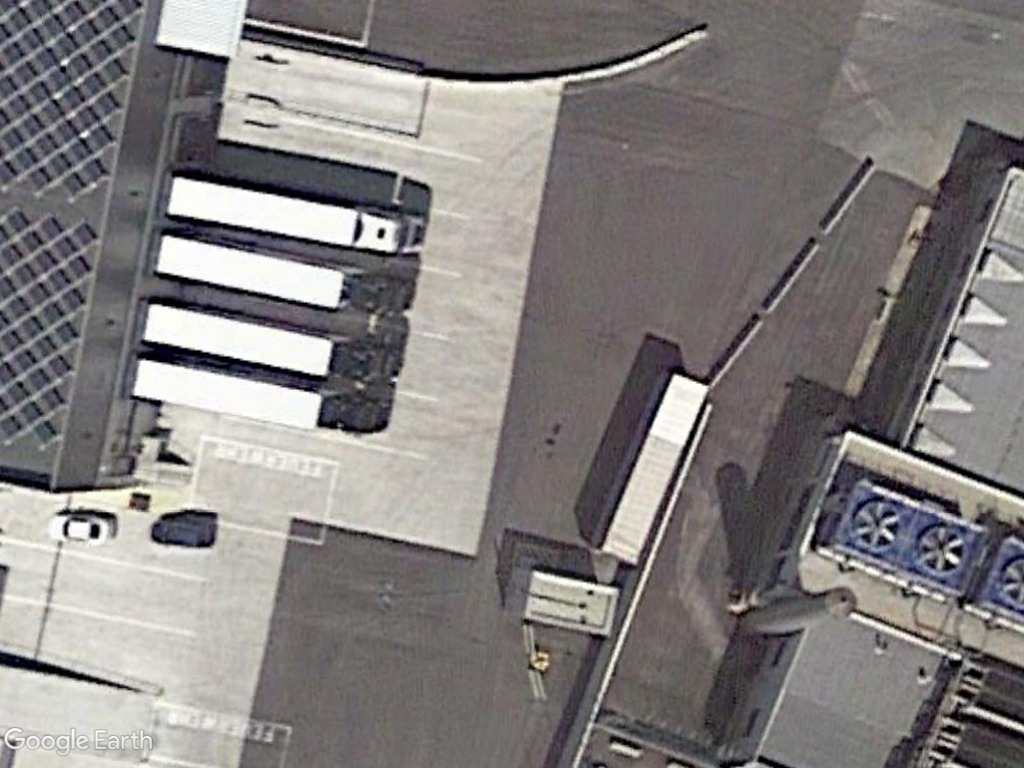car: (45, 509, 117, 547)
longvehicle: (144, 223, 415, 323), (162, 167, 428, 266), (132, 293, 410, 384), (122, 354, 396, 440)
